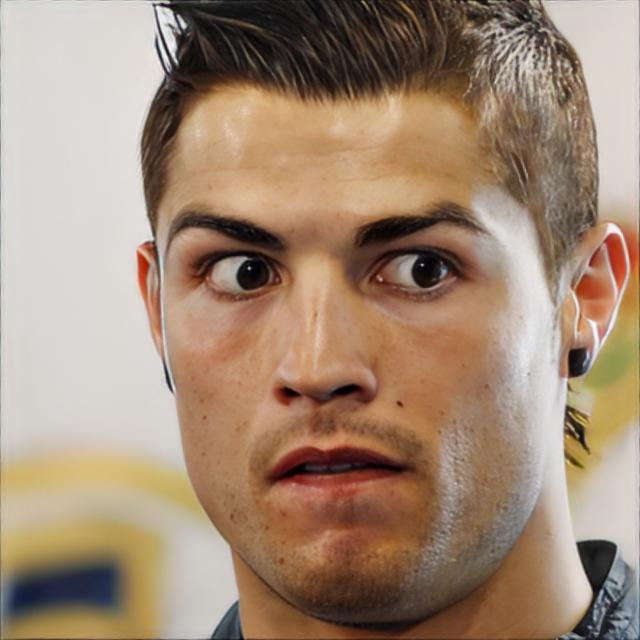Fear: (158, 68, 559, 624)
